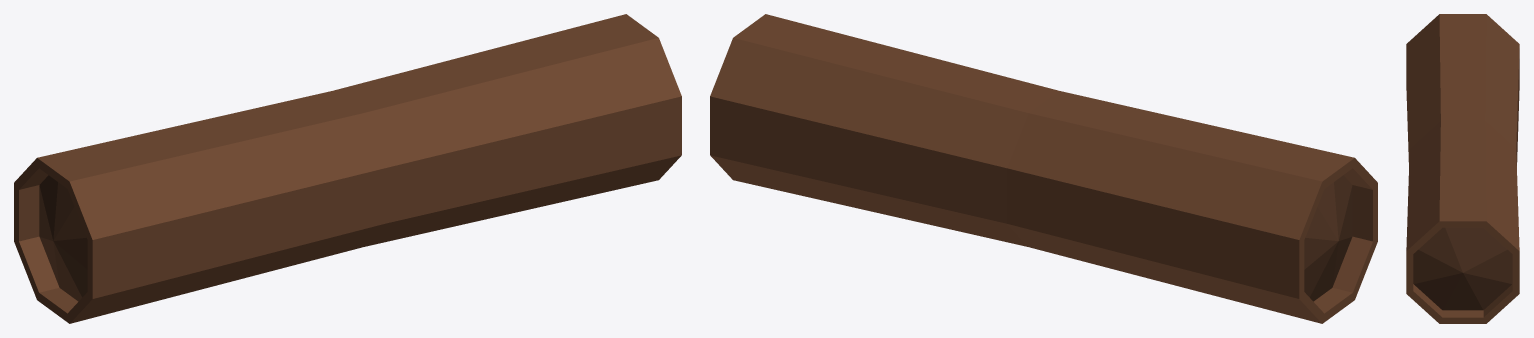
Rendered from Log_1_Brown.fbx.
3 renders of one model, left to right at view 1: azimuth 30°, elevation 25°; view 2: azimuth 150°, elevation 25°; view 3: azimuth 270°, elevation 25°, orthographic. The views are drawn at different scales.
Parts seen in each view (by area): view 1: Log_1_Brown; view 2: Log_1_Brown; view 3: Log_1_Brown.
Part boxes in pixels (bbox=[...]): Log_1_Brown: bbox=[14, 14, 681, 323]; Log_1_Brown: bbox=[710, 14, 1377, 323]; Log_1_Brown: bbox=[1406, 14, 1519, 323].
Bounding box in the file's own units: 200 × 46.18 × 46.18.
